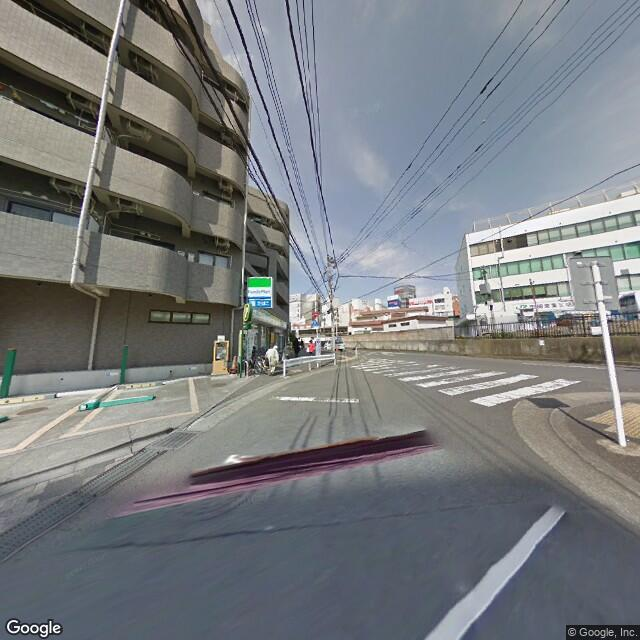family_mart: (245, 274, 273, 302)
